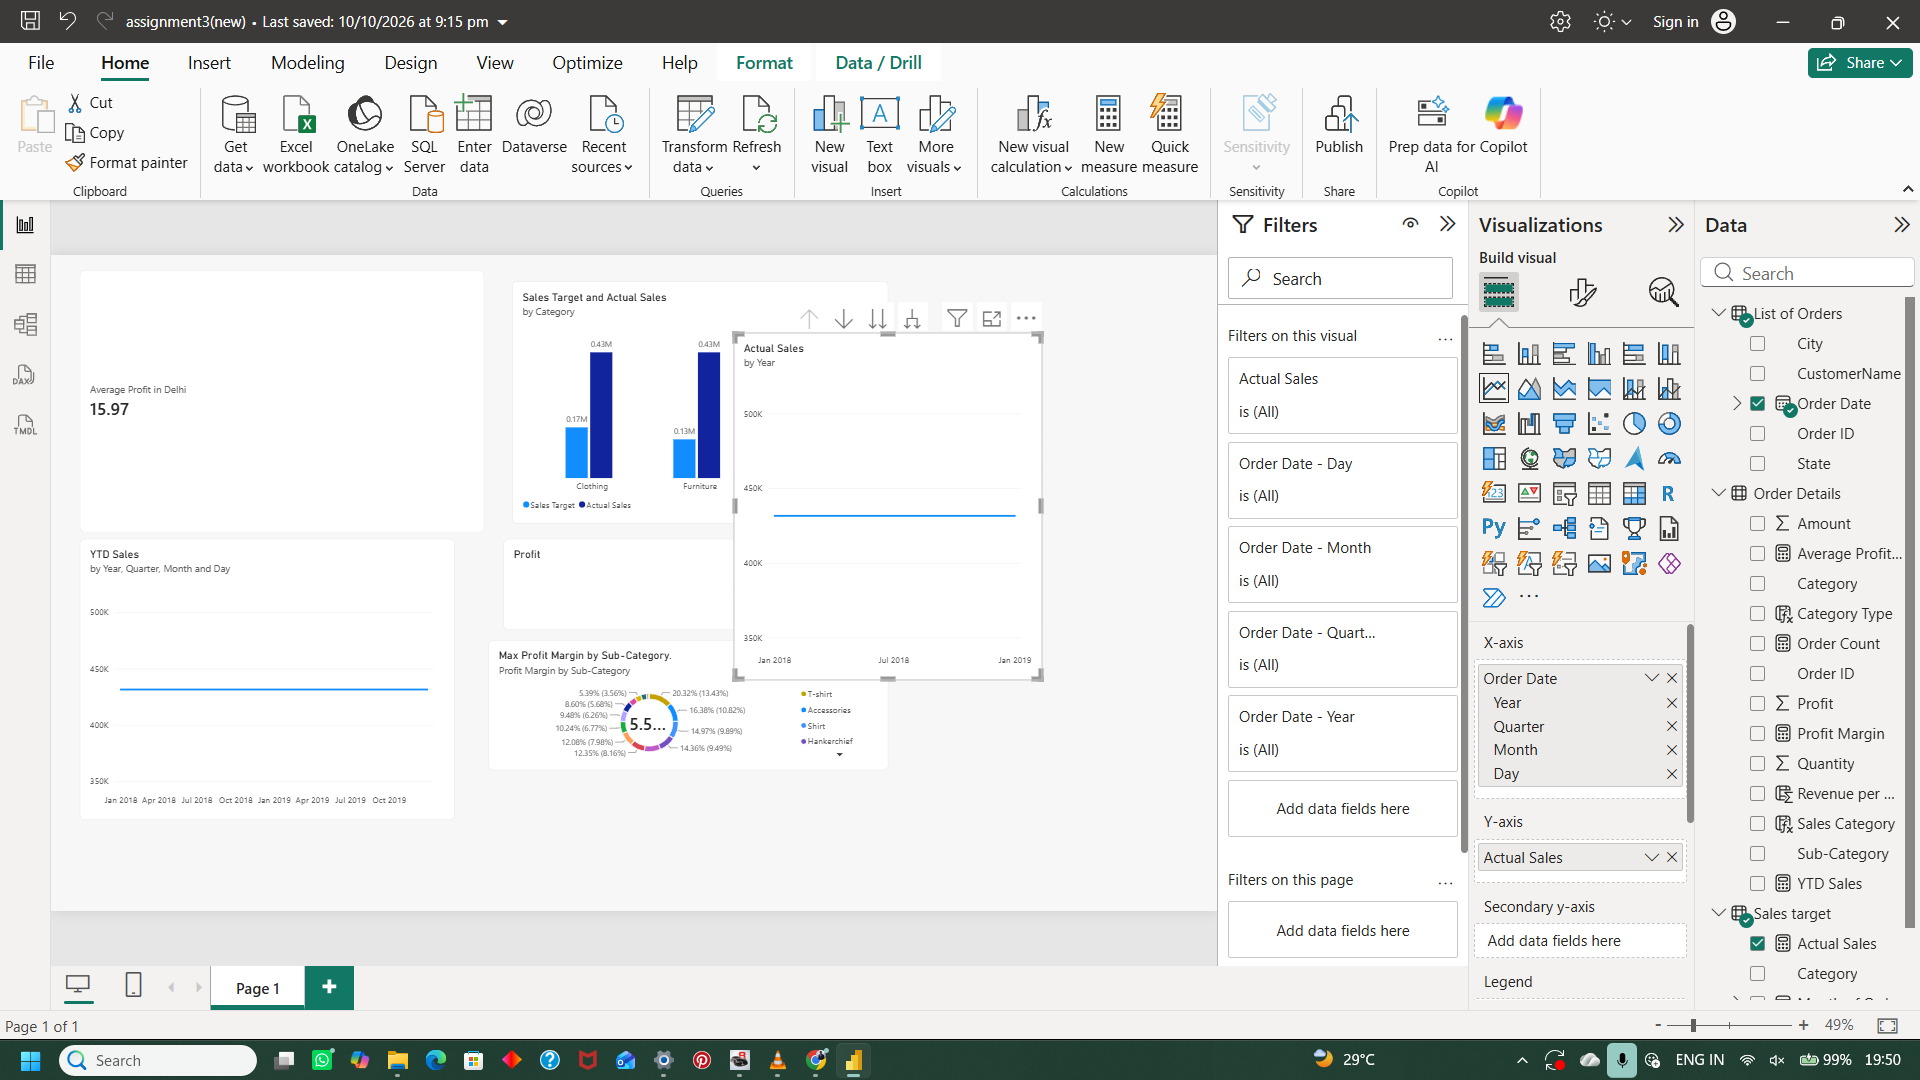

This screenshot's page, from the dashboard's own definition file:
{"tool":"powerbi","page":{"name":"Page 1","canvas":[1920,1080],"ordinal":0},"visuals":[{"type":"cardVisual","fields":{"Data":["Order Details.Average Profit in Delhi"]},"box":[0,0,234.6,209.9],"z":0},{"type":"lineChart","fields":{"Category":["List of Orders.Order Date.Variation.Date Hierarchy.Year","List of Orders.Order Date.Variation.Date Hierarchy.Quarter","List of Orders.Order Date.Variation.Date Hierarchy.Month","List of Orders.Order Date.Variation.Date Hierarchy.Day"],"Y":["Order Details.YTD Sales"]},"box":[0,209.9,720.4,329.3],"z":1},{"type":"clusteredColumnChart","fields":{"Category":["Sales target.Category"],"Y":["Sales target.Sales Target","Sales target.Actual Sales"]},"box":[234.6,0,485.8,209.9],"z":2},{"type":"donutChart","fields":{"Category":["Order Details.Profit"]},"box":[699.8,0,479.6,135.8],"z":3},{"type":"donutChart","title":"Max Profit Margin by Sub-Category.","fields":{"Category":["Order Details.Sub-Category"],"Y":["Order Details.Profit Margin"]},"box":[699.8,135.8,479.6,183.2],"z":4},{"type":"lineChart","title":"Monthly Sales Trend.","fields":{"Category":["List of Orders.Order Date.Variation.Date Hierarchy.Year","List of Orders.Order Date.Variation.Date Hierarchy.Month"],"Y":["Sales target.Actual Sales"]},"box":[1179.4,0,397.3,300.5],"z":5},{"type":"scatterChart","title":"Profit vs Quantity by Sub-Category.","fields":{"Series":["Order Details.Sub-Category"],"X":["Sum(Order Details.Quantity)"],"Y":["Sum(Order Details.Profit)"]},"box":[0,539.3,541.3,286.1],"z":6},{"type":"cardVisual","fields":{"Data":["Sales target.Total Sales Amount"]},"box":[1179.4,300.5,177,109.1],"z":7},{"type":"cardVisual","fields":{"Data":["Sales target.Total Sales Target"]},"box":[1356.4,300.5,220.2,109.1],"z":8},{"type":"tableEx","fields":{"Values":["Sales target.Category","Sales target.Sales Target"]},"box":[720.4,319,459,220.2],"z":9},{"type":"tableEx","fields":{"Values":["Sales target.Minimum Target","Sales target.Sales Target"]},"box":[1181.5,409.6,395.2,129.7],"z":10},{"type":"pivotTable","title":"Sales Performance Matrix.","fields":{"Columns":["Sales target.Month of Order Date.Variation.Date Hierarchy.Year","Sales target.Month of Order Date.Variation.Date Hierarchy.Quarter","Sales target.Month of Order Date.Variation.Date Hierarchy.Month","Sales target.Month of Order Date.Variation.Date Hierarchy.Day"],"Rows":["Sales target.Category"],"Values":["Sales target.Sales Target","Sales target.Actual Sales"]},"box":[541.3,539.3,640.1,286.1],"z":11},{"type":"map","fields":{"Category":["List of Orders.City"],"Series":["Order Details.Amount"]},"box":[1181.5,539.3,395.2,286.1],"z":12},{"type":"treemap","title":"Sales Distribution by Sub-Category.","fields":{"Group":["Order Details.Sub-Category"],"Values":["Sum(Order Details.Amount)"]},"box":[1576.7,0,343.7,300.5],"z":13},{"type":"funnel","title":"Order Count Analysis by State.","fields":{"Category":["List of Orders.State"],"Y":["Order Details.Order Count"]},"box":[1576.7,298.5,343.7,526.9],"z":14}]}

Visuals, with their boxes on the page's 1920x1080 design canvas (x1, y1, x2, y2). These are canvas units, not pixel positions in the 1920x1080 screenshot, which may show the page scaled, cropped or inside an application window:
cardVisual - Order Details.Average Profit in Delhi: (left=0, top=0, right=235, bottom=210)
lineChart - List of Orders.Order Date.Variation.Date Hierarchy.Year x List of Orders.Order Date.Variation.Date Hierarchy.Quarter: (left=0, top=210, right=720, bottom=539)
clusteredColumnChart - Sales target.Category x Sales target.Sales Target: (left=235, top=0, right=720, bottom=210)
donutChart - Order Details.Profit: (left=700, top=0, right=1179, bottom=136)
"Max Profit Margin by Sub-Category." donutChart: (left=700, top=136, right=1179, bottom=319)
"Monthly Sales Trend." lineChart: (left=1179, top=0, right=1577, bottom=300)
"Profit vs Quantity by Sub-Category." scatterChart: (left=0, top=539, right=541, bottom=825)
cardVisual - Sales target.Total Sales Amount: (left=1179, top=300, right=1356, bottom=410)
cardVisual - Sales target.Total Sales Target: (left=1356, top=300, right=1577, bottom=410)
tableEx - Sales target.Category x Sales target.Sales Target: (left=720, top=319, right=1179, bottom=539)
tableEx - Sales target.Minimum Target x Sales target.Sales Target: (left=1182, top=410, right=1577, bottom=539)
"Sales Performance Matrix." pivotTable: (left=541, top=539, right=1181, bottom=825)
map - List of Orders.City x Order Details.Amount: (left=1182, top=539, right=1577, bottom=825)
"Sales Distribution by Sub-Category." treemap: (left=1577, top=0, right=1920, bottom=300)
"Order Count Analysis by State." funnel: (left=1577, top=298, right=1920, bottom=825)
